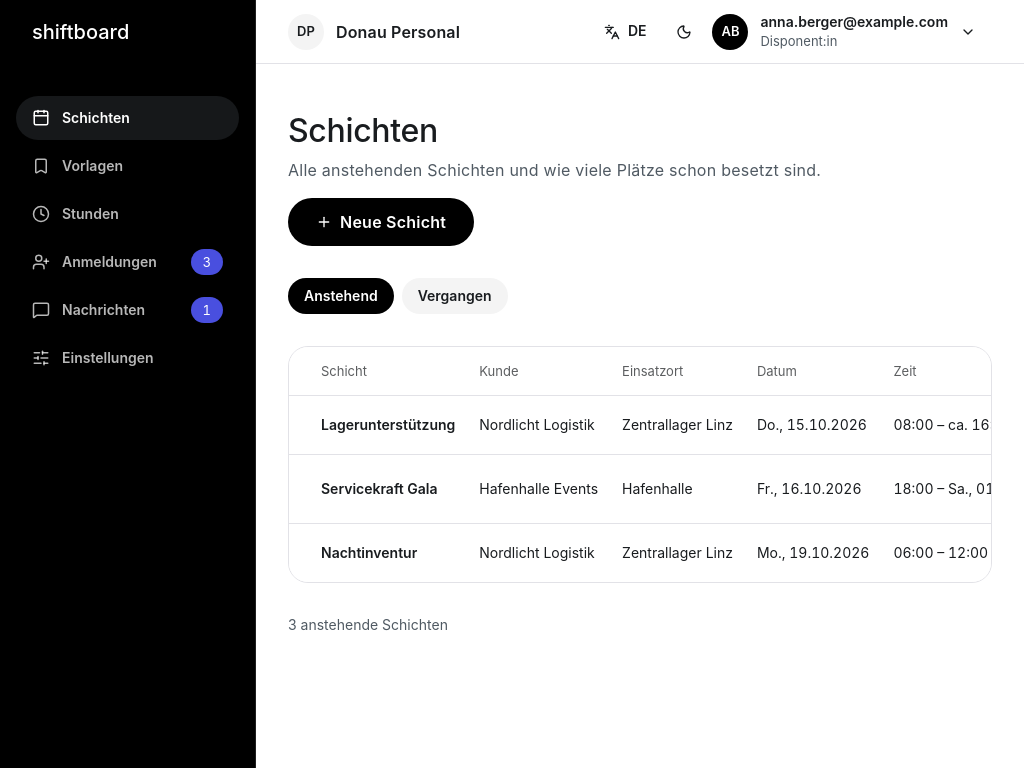
Scenario: shift detail › opens from the list and shows the shift with its facts
Click the link "Lagerunterstützung".
click(388, 424)  # box [321, 416, 455, 433]
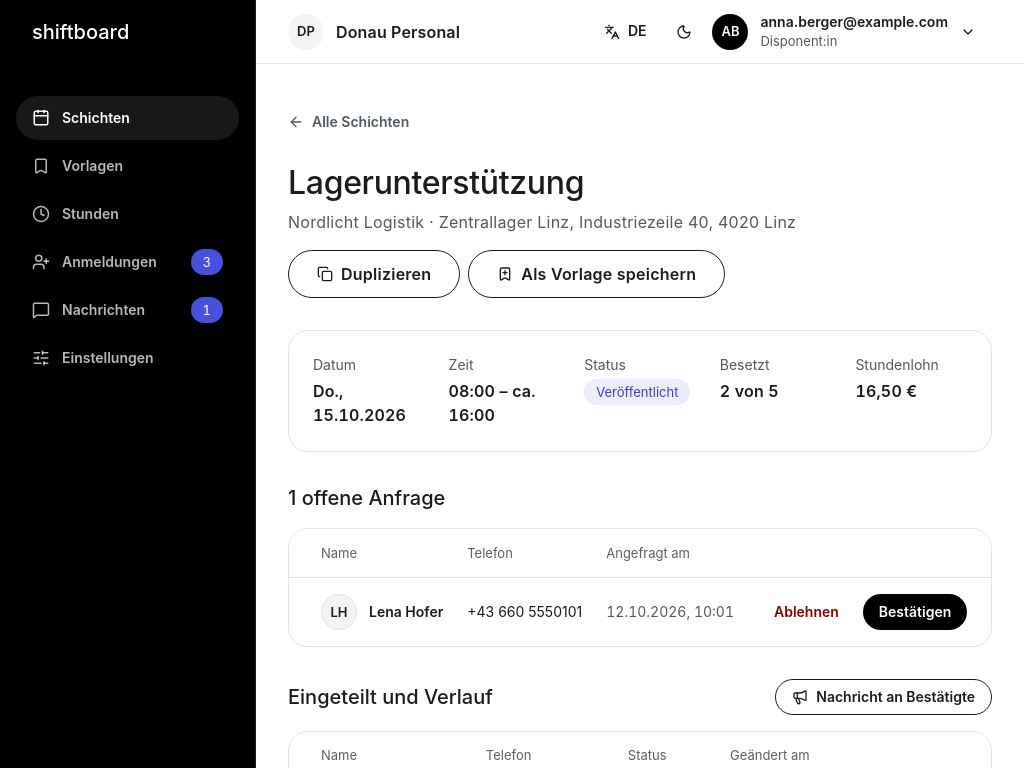
Result: the heading "Lagerunterstützung" is shown at [288, 163, 584, 202]
Result: the text "Nordlicht Logistik · Zentrallager Linz, Industriezeile 40, 4020 Linz" is shown at [288, 210, 796, 234]
Result: the text "2 von 5" is shown at [720, 381, 779, 401]
